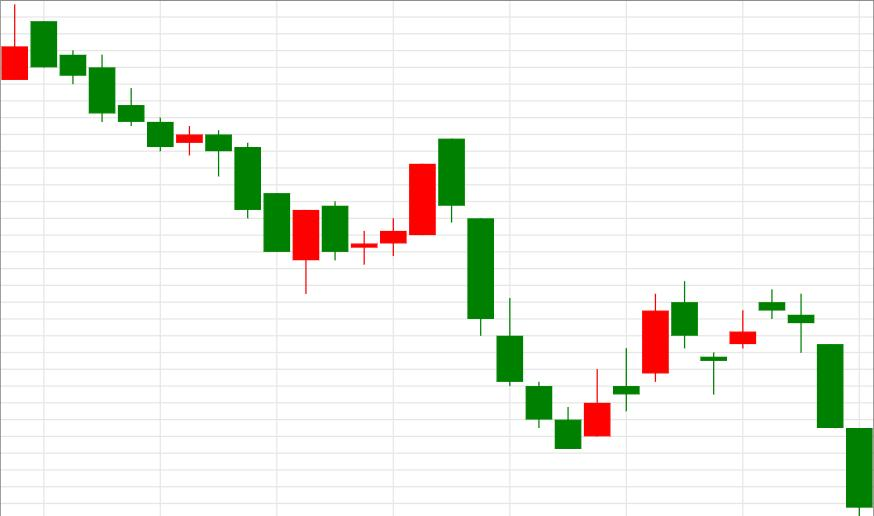three_black_crows_fall: (292, 138, 524, 385)
